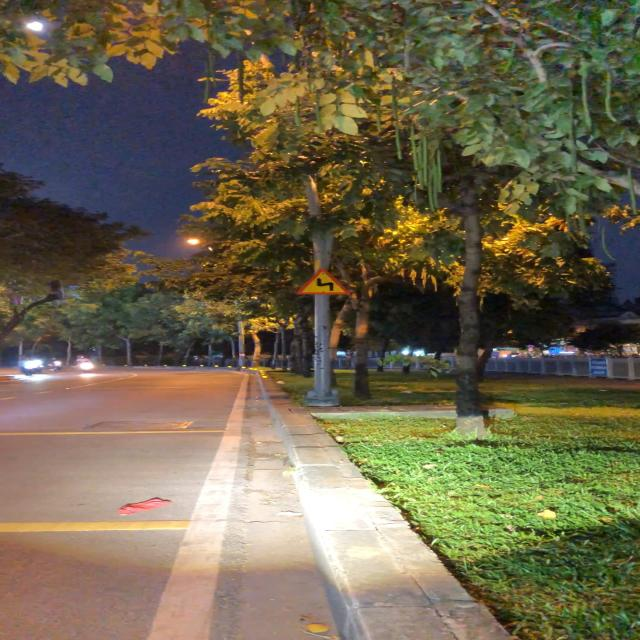Bien bao nhieu cho ngoat nguy hiem lien tiep: (296, 269, 352, 296)
